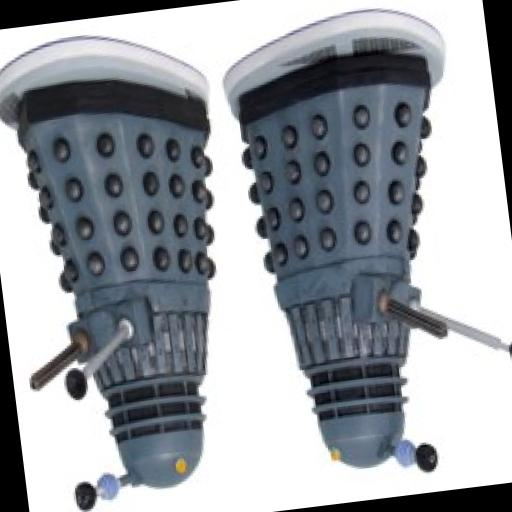dalek: (233, 41, 512, 494), (6, 65, 257, 512)
